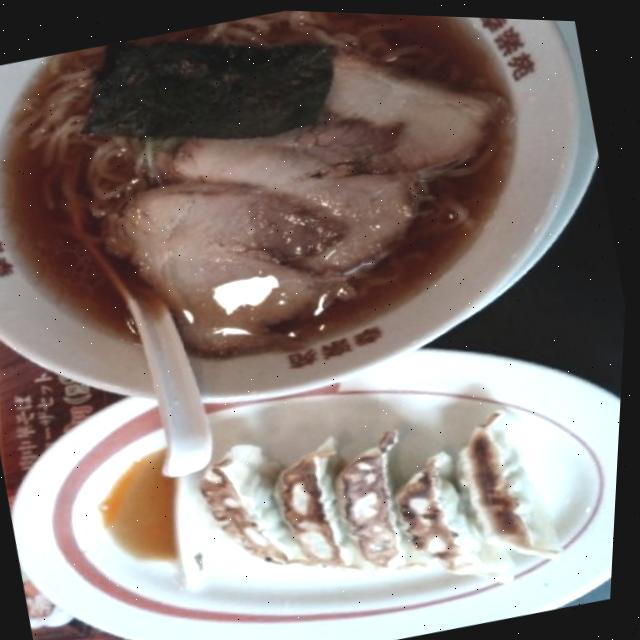带馅早点: (0, 272, 629, 640)
面条主食: (0, 0, 640, 466)
